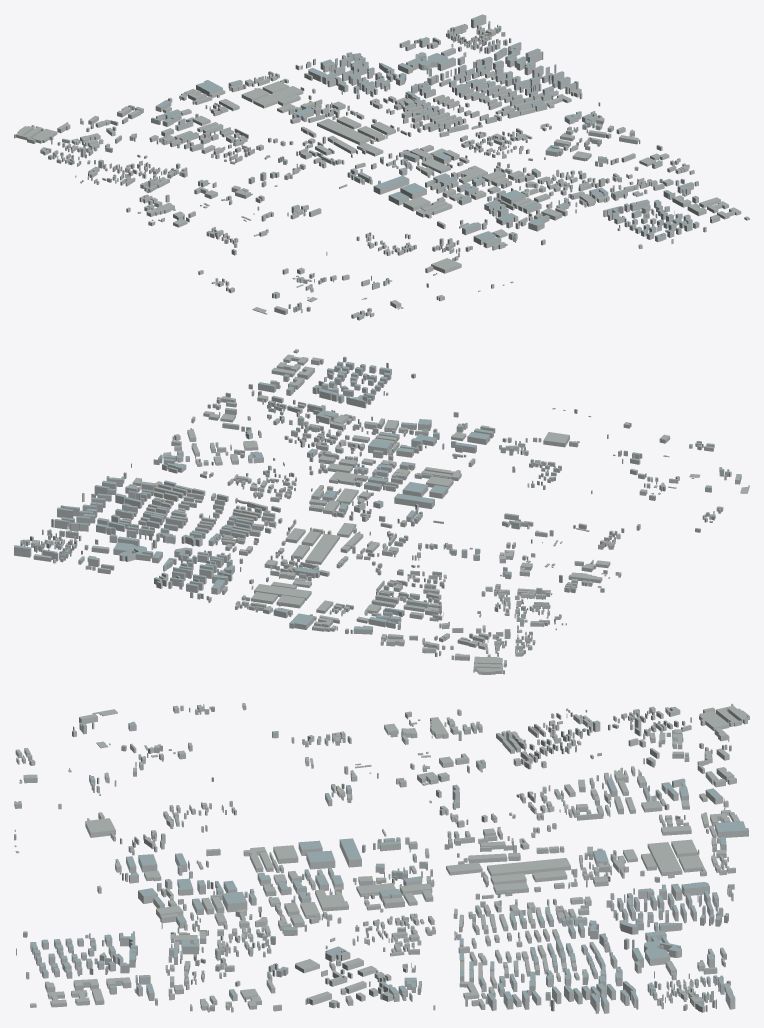
The model's file is far.glb.
3 views of the same model, one above another, from view 1: azimuth 30°, elevation 25°; view 2: azimuth 150°, elevation 25°; view 3: azimuth 270°, elevation 25° (orthographic). The views are drawn at different scales.
Size of the model in its own units: 2116 by 36.9 by 2146.
